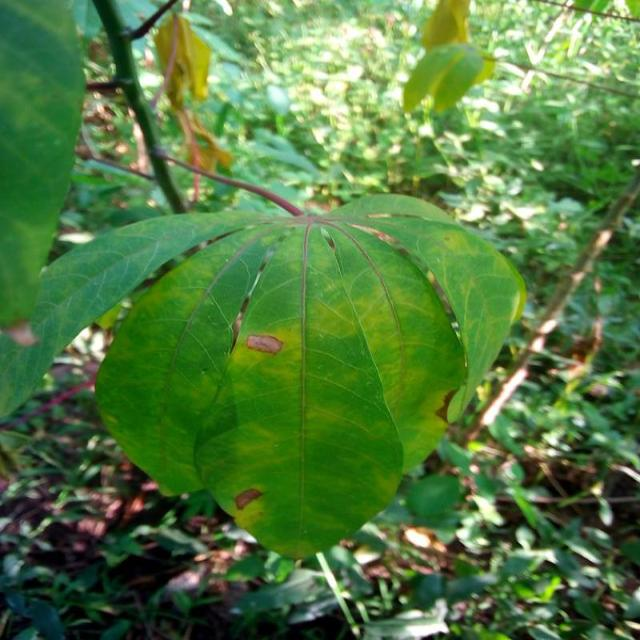cassava leaf: (91, 192, 526, 560)
